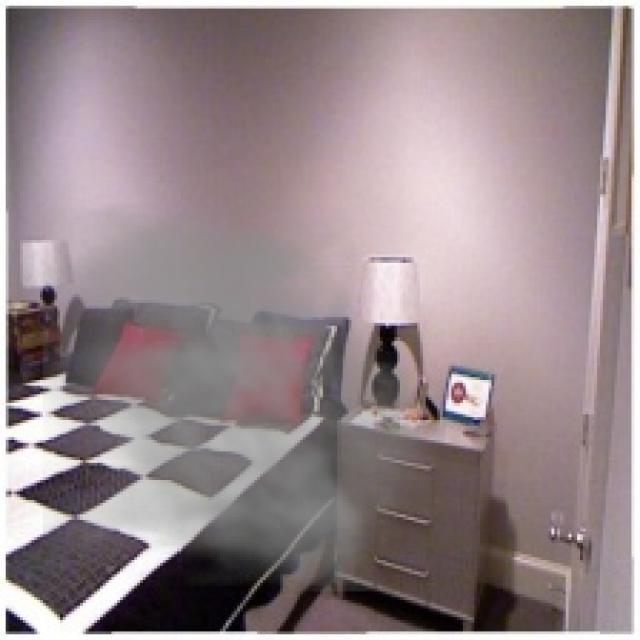Smoke: (43, 203, 446, 592)
